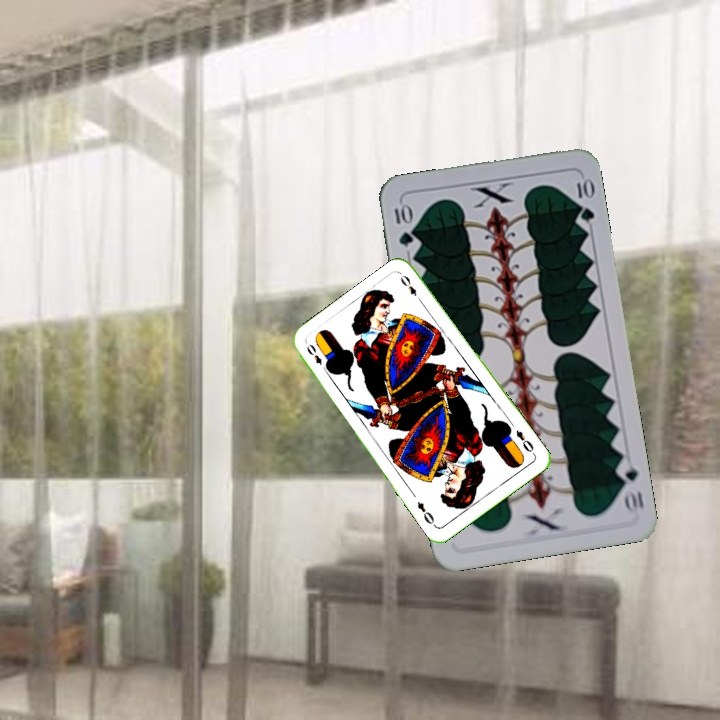EO: (302, 340, 331, 375), (511, 426, 538, 457)
G10: (613, 456, 647, 515), (390, 200, 416, 249)
